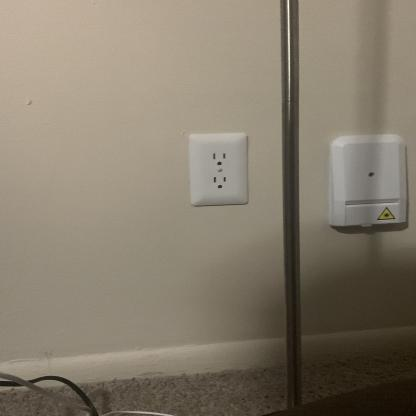OUTLET: (187, 132, 250, 208)
